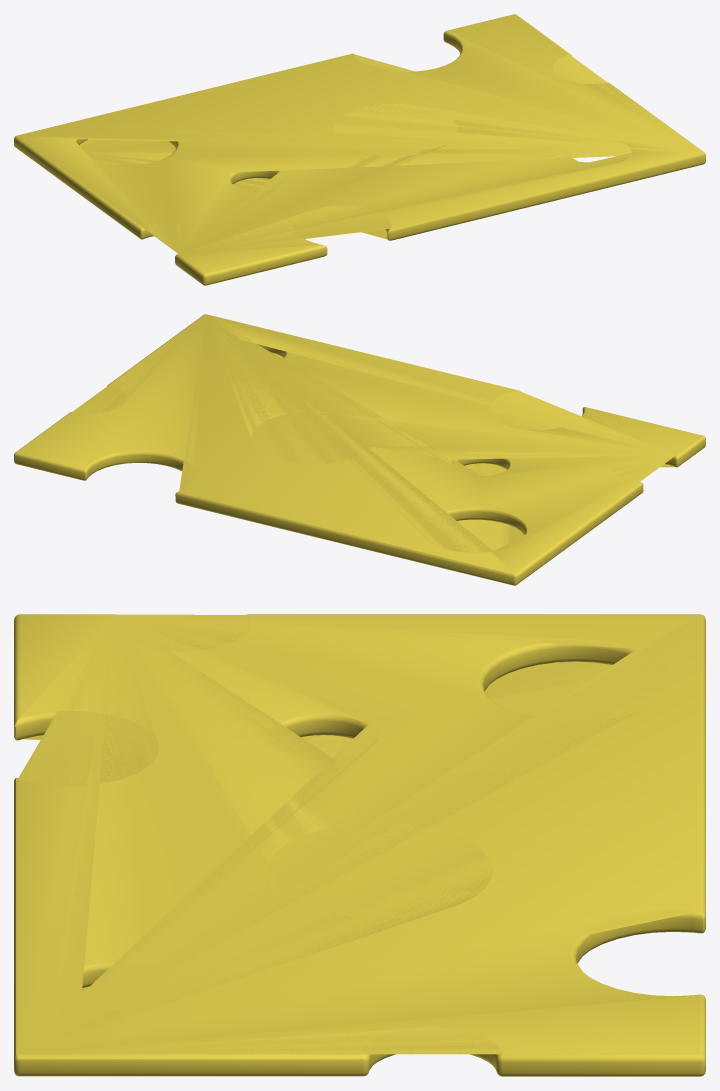
The model's file is try.fbx.
3 renders of one model, top to bottom at view 1: azimuth 30°, elevation 25°; view 2: azimuth 150°, elevation 25°; view 3: azimuth 270°, elevation 25°, orthographic. The views are drawn at different scales.
Parts seen in each view (by area): view 1: Cube.001; view 2: Cube.001; view 3: Cube.001.
Part boxes in pixels (left/top/right/bottom): Cube.001: left=14, top=14, right=705, bottom=285; Cube.001: left=14, top=314, right=705, bottom=585; Cube.001: left=14, top=614, right=705, bottom=1076.
Bounding box in the file's own units: 303 × 6.93 × 199.
